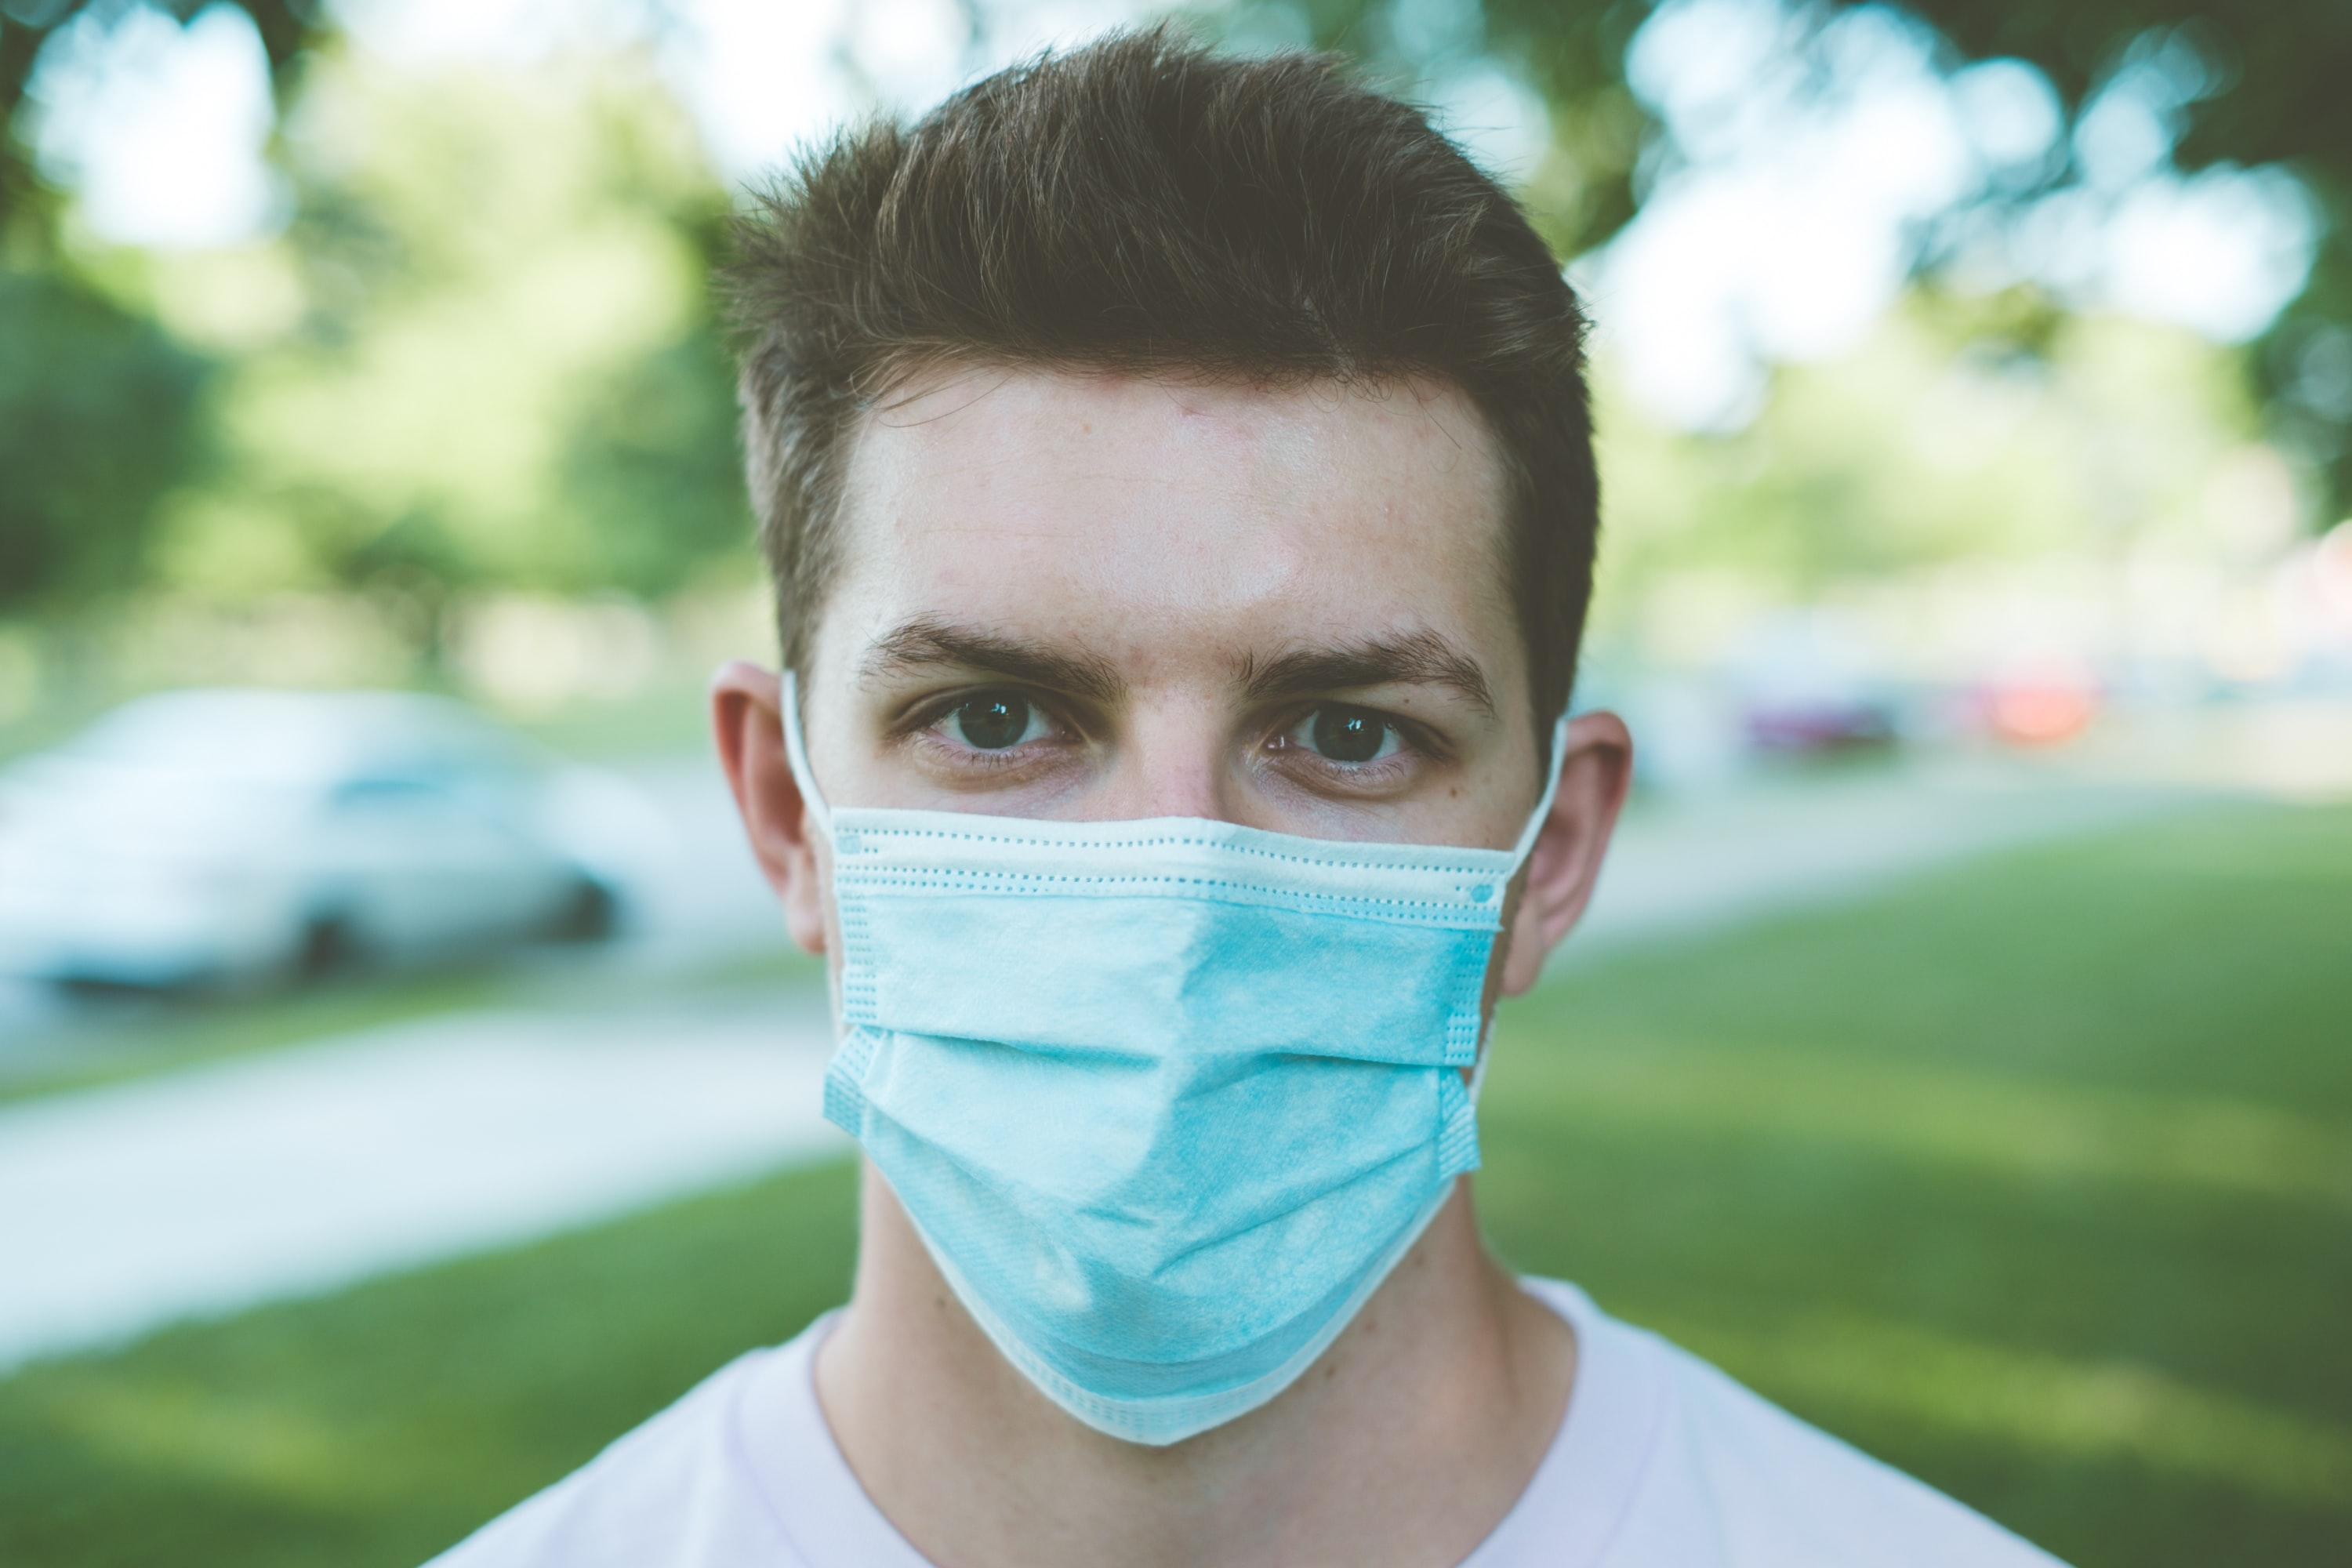mask: (773, 777, 1554, 1455)
person: (348, 96, 2158, 1568)
